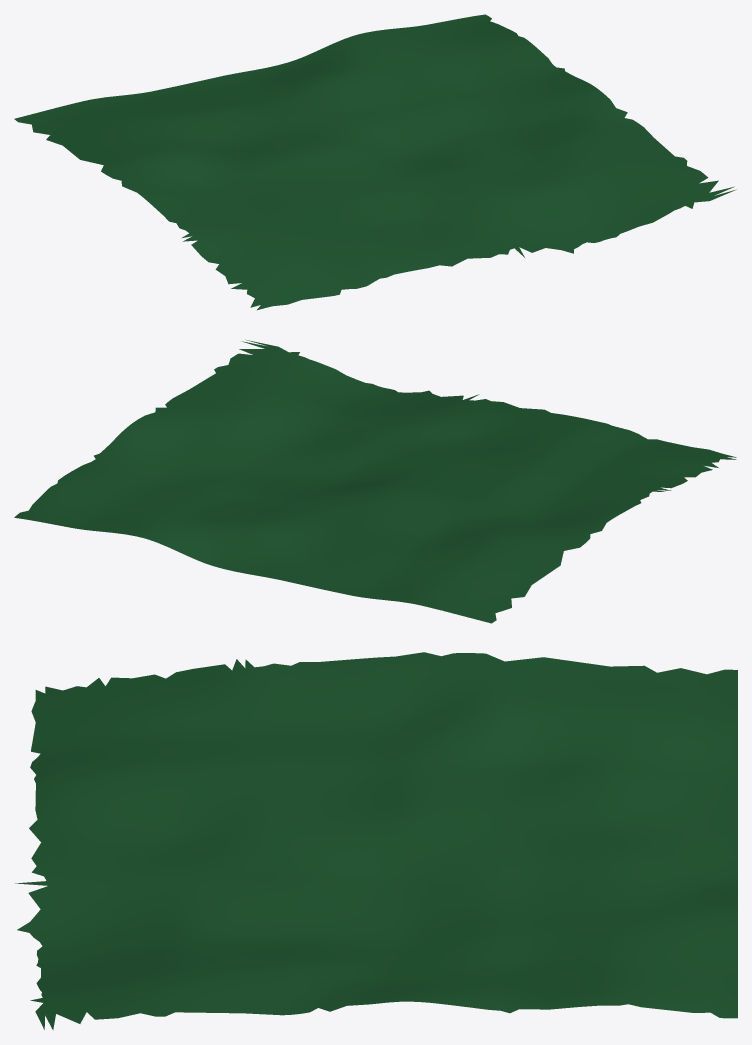
File: payo_land_xm3_ym4.glb
3 views of the same model, one above another, from view 1: azimuth 30°, elevation 25°; view 2: azimuth 150°, elevation 25°; view 3: azimuth 270°, elevation 25° (orthographic). The views are drawn at different scales.
Parts seen in each view (by area): view 1: payo_land_xm3_ym4; view 2: payo_land_xm3_ym4; view 3: payo_land_xm3_ym4.
Part boxes in pixels (x1,y1,x2,y2): payo_land_xm3_ym4: [14, 14, 736, 310]; payo_land_xm3_ym4: [14, 339, 736, 623]; payo_land_xm3_ym4: [15, 652, 737, 1030].
Bounding box in the file's own units: 269 × 21.8 × 238.
